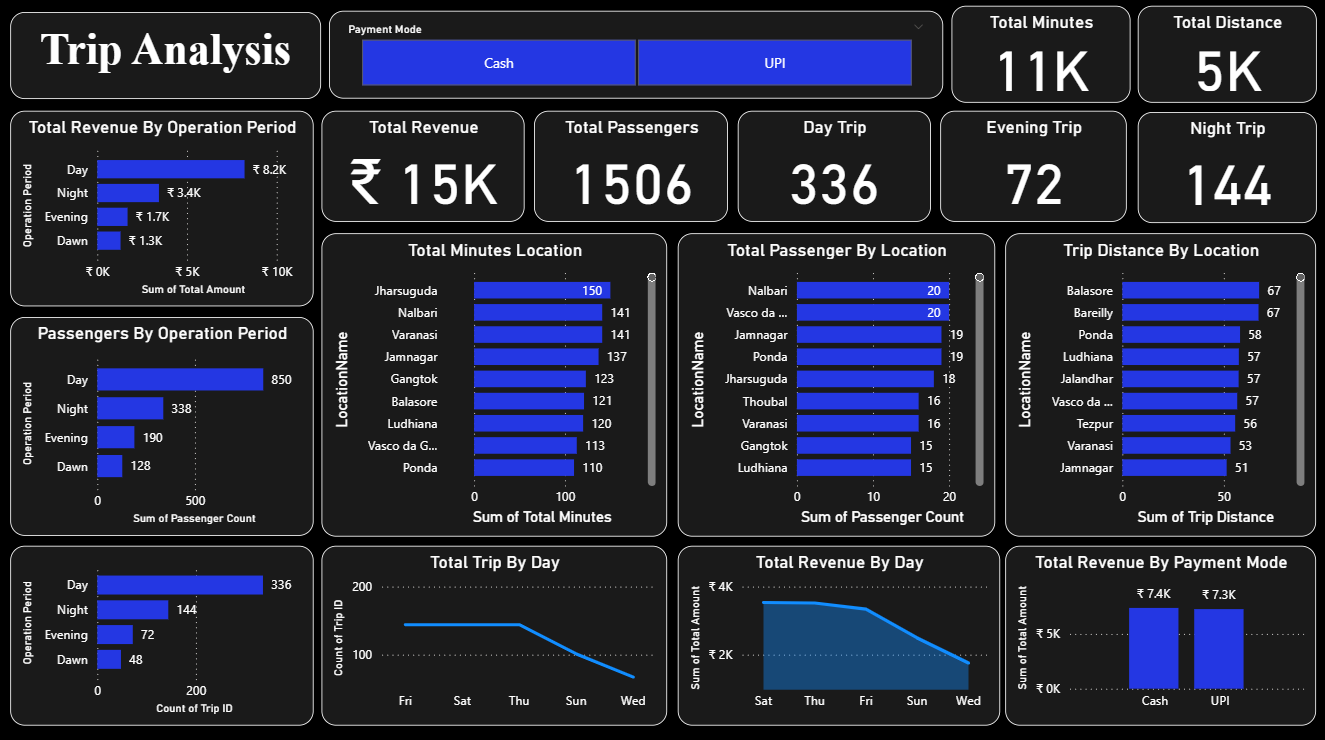

Layout of this report page (visuals, bound fields, positions):
{"tool":"powerbi","page":{"name":"Page 1","canvas":[1280,720],"ordinal":0},"visuals":[{"type":"card","title":"Total Revenue","fields":{"Values":["Sum(TripData.Total Amount)"]},"box":[311.2,110,196.2,107.5],"z":0},{"type":"card","title":"Evening Trip","fields":{"Values":["All Measure.Evening Trip"]},"box":[908.8,110,180,107.5],"z":1000},{"type":"card","title":"Day Trip","fields":{"Values":["All Measure.Day Trip"]},"box":[712.5,110,186.2,107.5],"z":2000},{"type":"card","title":"Total Passengers","fields":{"Values":["Sum(TripData.Passenger Count)"]},"box":[516.2,110,187.5,107.5],"z":3000},{"type":"card","title":"Night Trip","fields":{"Values":["All Measure.Night Trip"]},"box":[1098.8,111.2,172.5,107.5],"z":4000},{"type":"card","title":"Total Minutes","fields":{"Values":["Sum(TripData.Total Minutes)"]},"box":[918.8,8.8,172.5,93.8],"z":5000},{"type":"card","title":"Total Distance","fields":{"Values":["Sum(TripData.Trip Distance)"]},"box":[1098.8,8.8,172.5,93.8],"z":6000},{"type":"barChart","title":"Total Minutes Location","fields":{"Category":["Location.LocationName"],"Y":["Sum(TripData.Total Minutes)"]},"box":[311.2,227.5,333.8,292.5],"z":7000},{"type":"barChart","title":"Total Passenger By Location","fields":{"Category":["Location.LocationName"],"Y":["Sum(TripData.Passenger Count)"]},"box":[655,227.5,306.2,292.5],"z":8000},{"type":"barChart","title":"Trip Distance By Location","fields":{"Category":["Location.LocationName"],"Y":["Sum(TripData.Trip Distance)"]},"box":[971.2,227.5,300,292.5],"z":9000},{"type":"lineChart","title":"Total Trip  By Day","fields":{"Category":["Date.Day Name"],"Y":["CountNonNull(TripData.Trip ID)"]},"box":[311.2,530,333.8,173.8],"z":10000},{"type":"areaChart","title":"Total Revenue By Day","fields":{"Category":["Date.Day Name"],"Y":["Sum(TripData.Total Amount)"]},"box":[655,530,311.2,173.8],"z":11000},{"type":"columnChart","title":"Total Revenue By Payment Mode","fields":{"Category":["TripData.Payment Mode"],"Y":["Sum(TripData.Total Amount)"]},"box":[971.2,530,300,173.8],"z":12000},{"type":"barChart","title":"Total Revenue By Operation Period","fields":{"Category":["TripData.Operation Period"],"Y":["Sum(TripData.Total Amount)"]},"box":[11.2,110,292.5,188.8],"z":13000},{"type":"barChart","title":"Passengers By Operation Period","fields":{"Category":["TripData.Operation Period"],"Y":["Sum(TripData.Passenger Count)"]},"box":[11.2,308.8,292.5,211.2],"z":14000},{"type":"barChart","fields":{"Category":["TripData.Operation Period"],"Y":["CountNonNull(TripData.Trip ID)"]},"box":[11.2,530,292.5,173.8],"z":15000},{"type":"slicer","fields":{"Values":["TripData.Payment Mode"]},"box":[318.8,13.8,592.5,85],"z":16000},{"type":"textbox","box":[11.2,15,300,83.8],"z":17000}]}

Visuals, with their boxes in screenshot pixels (x1, y1, x2, y2), scaled from the page's 1280x720 canvas onto the 1325x740 screenshot:
"Total Revenue" card: [322,113,525,224]
"Evening Trip" card: [941,113,1127,224]
"Day Trip" card: [738,113,930,224]
"Total Passengers" card: [534,113,728,224]
"Night Trip" card: [1137,114,1316,225]
"Total Minutes" card: [951,9,1130,105]
"Total Distance" card: [1137,9,1316,105]
"Total Minutes Location" barChart: [322,234,668,534]
"Total Passenger By Location" barChart: [678,234,995,534]
"Trip Distance By Location" barChart: [1005,234,1316,534]
"Total Trip  By Day" lineChart: [322,545,668,723]
"Total Revenue By Day" areaChart: [678,545,1000,723]
"Total Revenue By Payment Mode" columnChart: [1005,545,1316,723]
"Total Revenue By Operation Period" barChart: [12,113,314,307]
"Passengers By Operation Period" barChart: [12,317,314,534]
barChart - TripData.Operation Period x CountNonNull(TripData.Trip ID): [12,545,314,723]
slicer - TripData.Payment Mode: [330,14,943,102]
textbox: [12,15,322,102]
